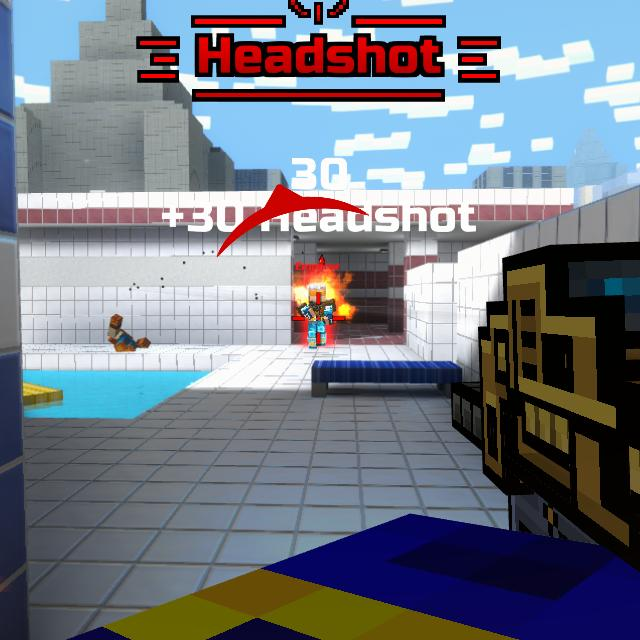Enemy: (296, 283, 336, 349)
